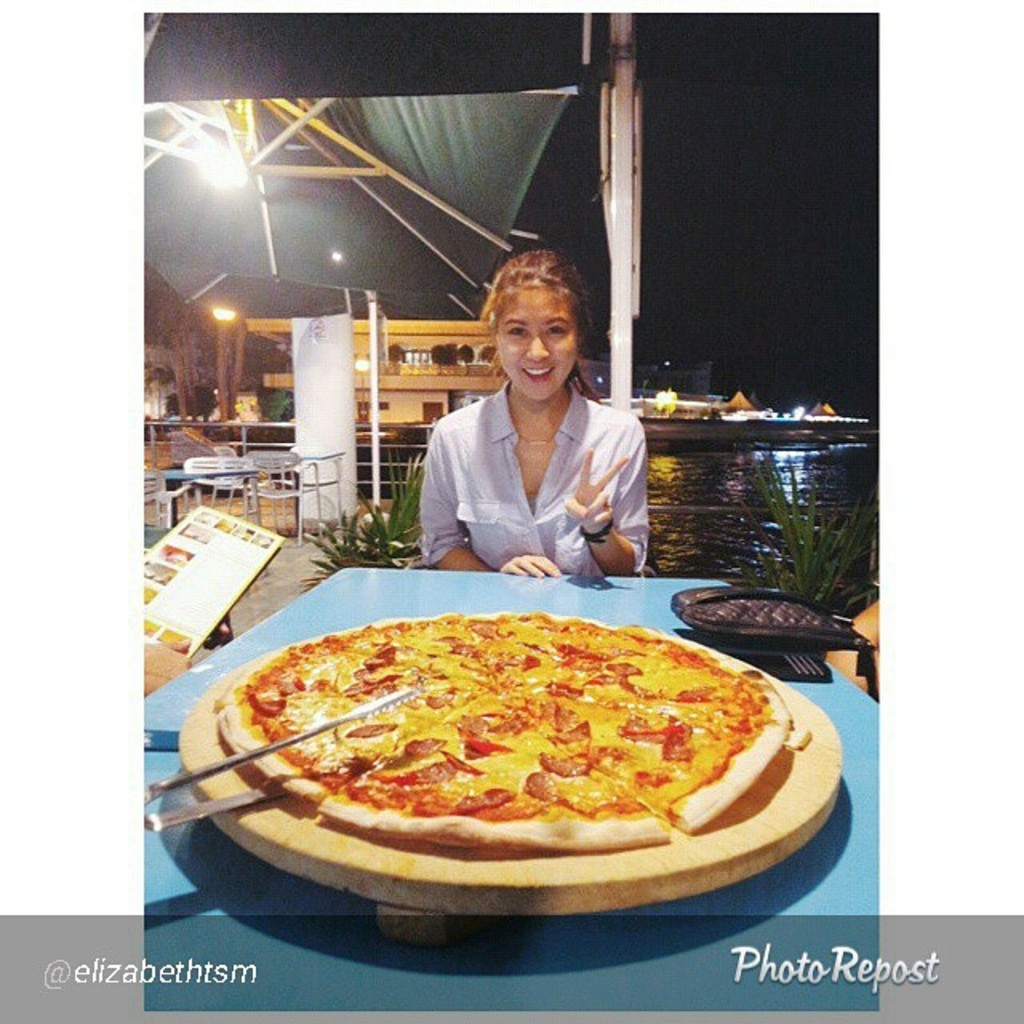pizza: (200, 594, 789, 856)
